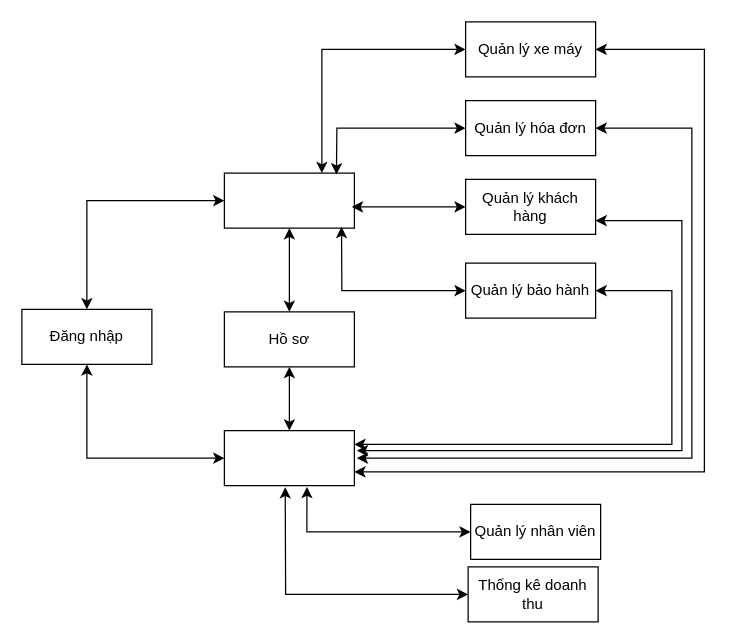
Image size: 738x644. Some labels were removed from this diagram. Here are the shapes that lost their labels. From the top down, the centre of each, then its label:
At (x=288, y=200): "Nhân viên".
At (x=288, y=457): "Quản lý".
